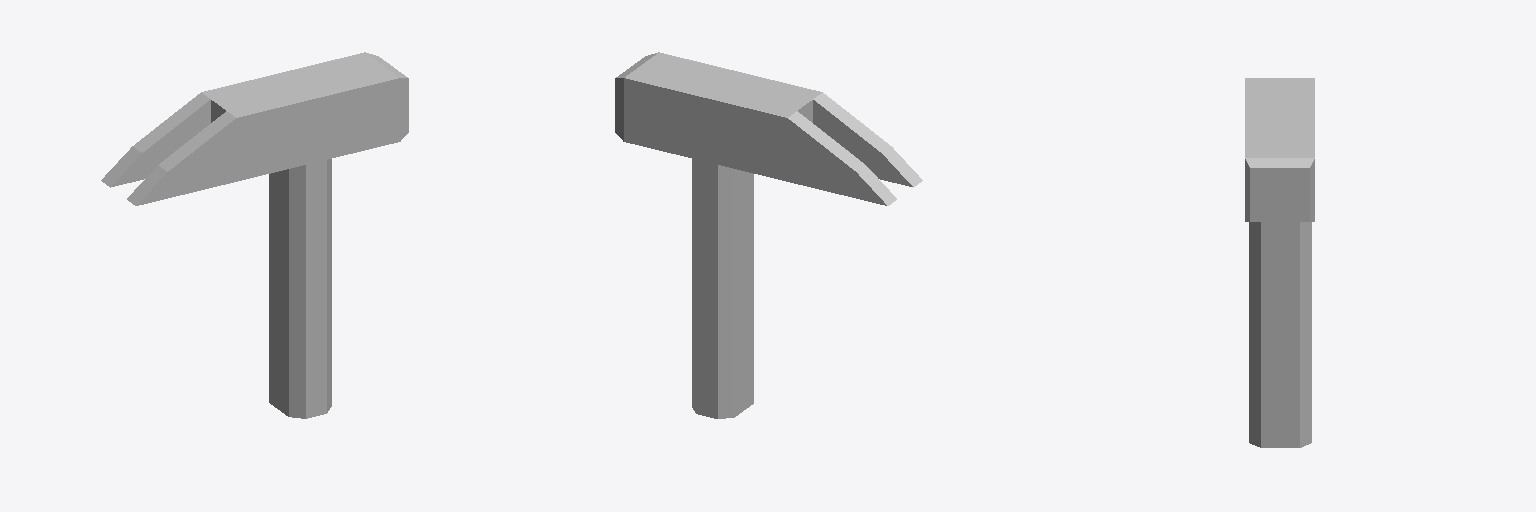
The model's file is Lab3Hammer.obj.
3 renders of one model, left to right at view 1: azimuth 30°, elevation 25°; view 2: azimuth 150°, elevation 25°; view 3: azimuth 270°, elevation 25°, orthographic.
Visible parts, largest first — view 1: pCube2, pCube2 pCube1; view 2: pCube2, pCube2 pCube1; view 3: pCube2 pCube1, pCube2.
Part boxes in pixels (x1,y1,x2,y2): pCube2: (101,52,408,205); pCube2 pCube1: (269,159,331,418); pCube2: (615,52,922,205); pCube2 pCube1: (692,159,753,418); pCube2 pCube1: (1249,222,1311,447); pCube2: (1245,78,1314,221).
Bounding box in the file's own units: 6.42 × 7.13 × 1.42.